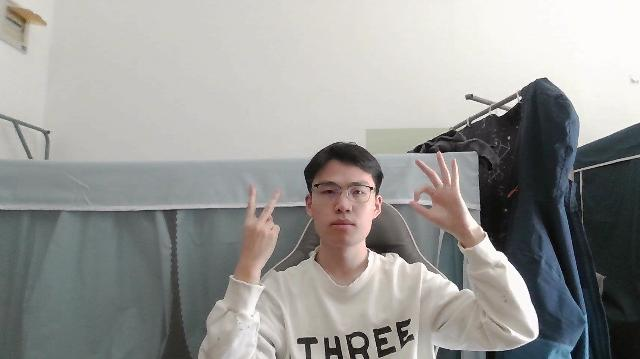ok: (412, 149, 463, 224)
two: (242, 185, 282, 260)
